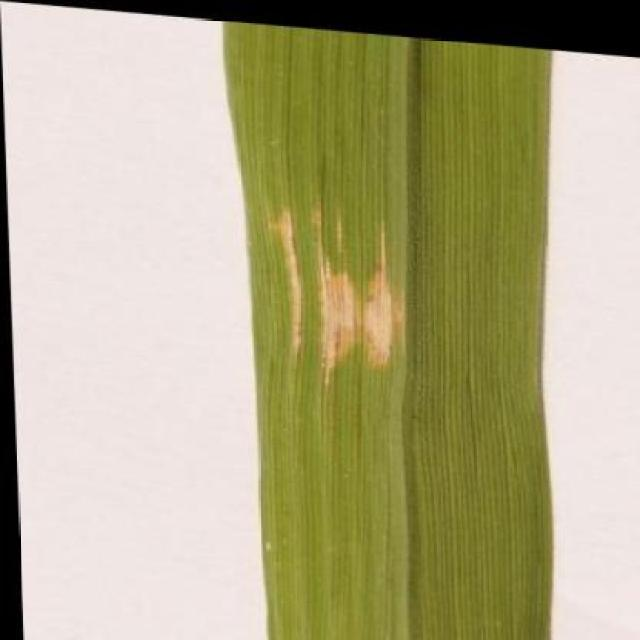Brown_Spot: (223, 15, 574, 640)
